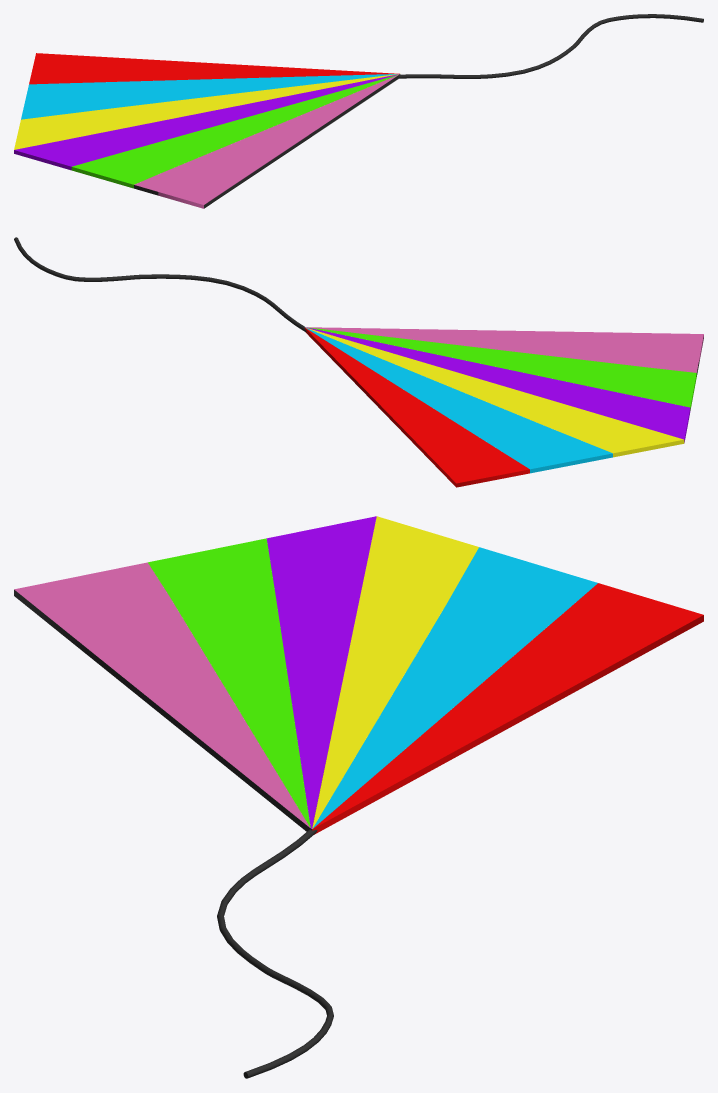
The model's file is kite.glb.
3 views of the same model, one above another, from view 1: azimuth 30°, elevation 25°; view 2: azimuth 150°, elevation 25°; view 3: azimuth 270°, elevation 25° (orthographic). The views are drawn at different scales.
Parts seen in each view (by area): view 1: Box002, Line003; view 2: Box002, Line003; view 3: Box002, Line003.
Boxes of the visible parts, left/top/right/bottom form: Box002: left=14, top=53, right=400, bottom=208; Line003: left=398, top=14, right=703, bottom=78; Box002: left=304, top=327, right=703, bottom=487; Line003: left=14, top=237, right=306, bottom=332; Box002: left=14, top=516, right=703, bottom=834; Line003: left=217, top=829, right=333, bottom=1078.
Size of the model in its own units: 0.9 by 0.00557 by 0.4719.
